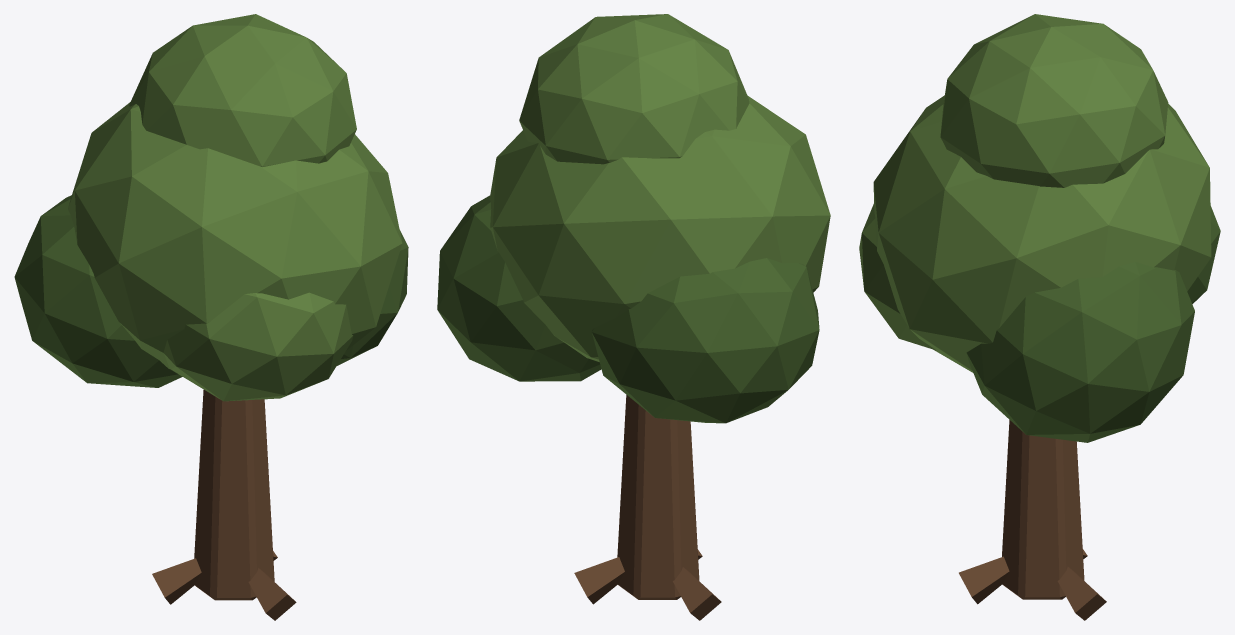
File: Tree Round.fbx
The picture shows the model from 3 angles, left to right: view 1: azimuth 30°, elevation 25°; view 2: azimuth 150°, elevation 25°; view 3: azimuth 270°, elevation 25°; orthographic projection. The views are drawn at different scales.
Parts seen in each view (by area): view 1: Tree Round; view 2: Tree Round; view 3: Tree Round.
Boxes of the visible parts, x1,y1,x2,y2 form: Tree Round: [14, 14, 408, 620]; Tree Round: [437, 14, 830, 620]; Tree Round: [859, 14, 1220, 620].
Size of the model in its own units: 0.7133 by 1.08 by 0.6093.
